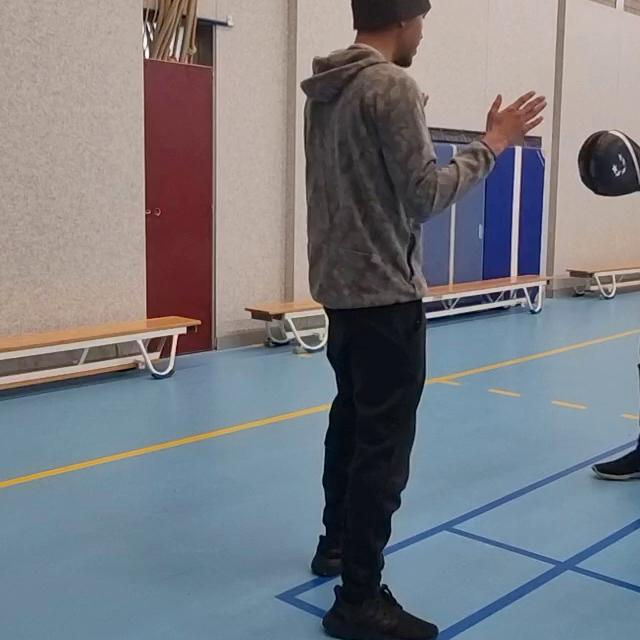paddle: (571, 127, 640, 201)
